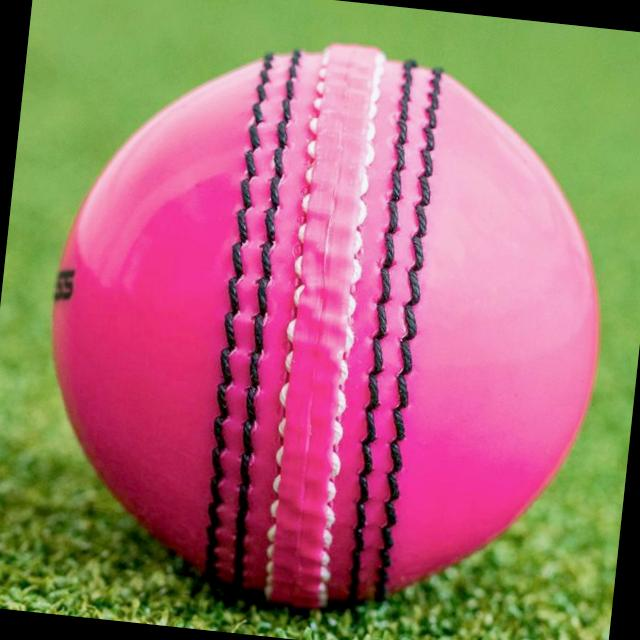ball: (17, 19, 629, 640)
